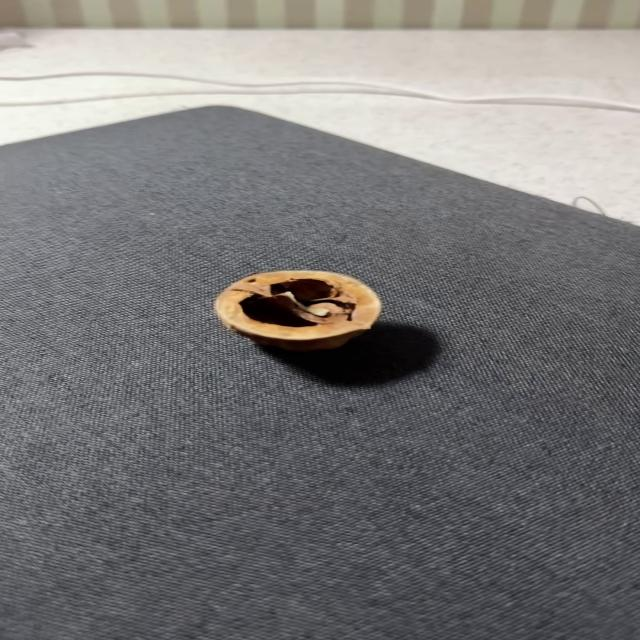nuts-bad0.5: (215, 270, 381, 351)
